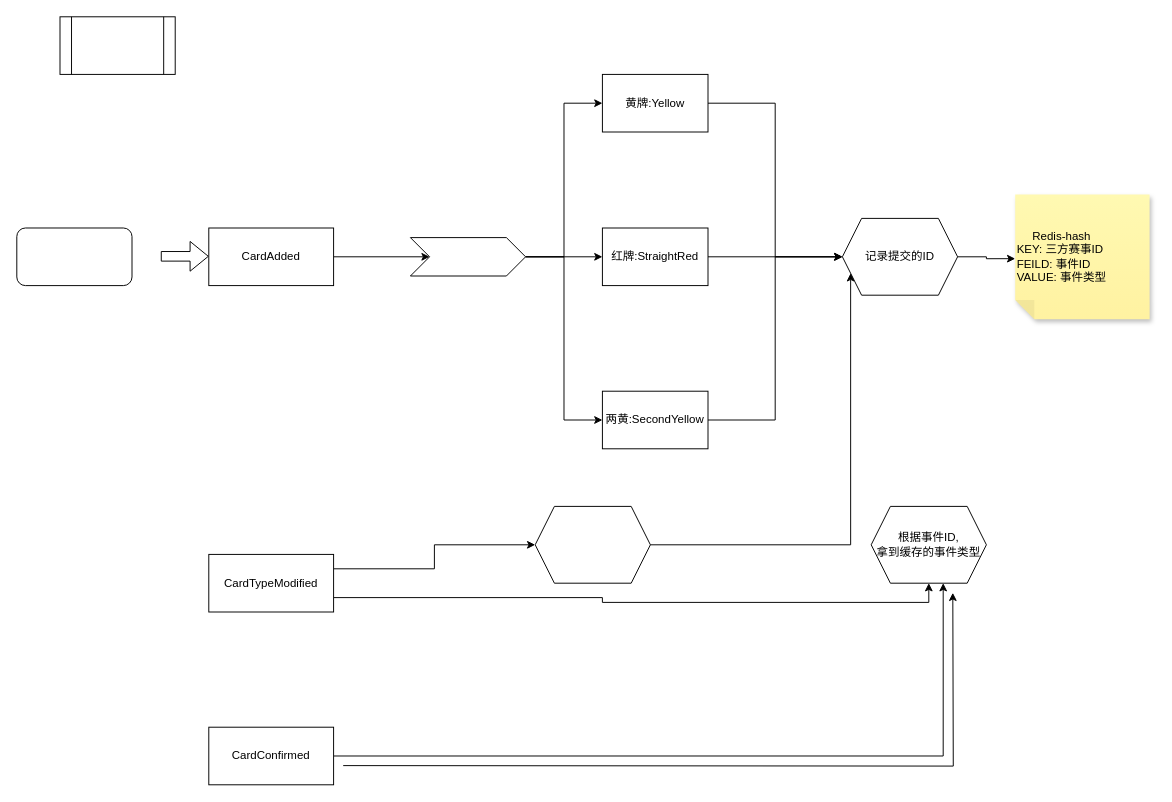
Some shapes in this 1172 by 802 pixel diagram are drawn without their labels. Each missing label, with the centre of its shape:
"事件类型" goes at point (117, 45).
"修改缓存的事件类型" goes at point (592, 544).
"红黄牌" goes at point (74, 256).
"解析牌的类型" goes at point (467, 256).
